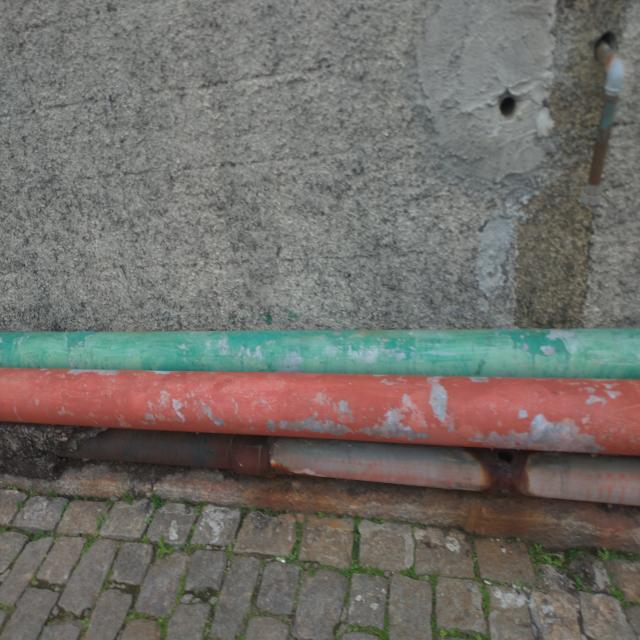gas: (3, 374, 640, 454), (0, 330, 639, 379)
